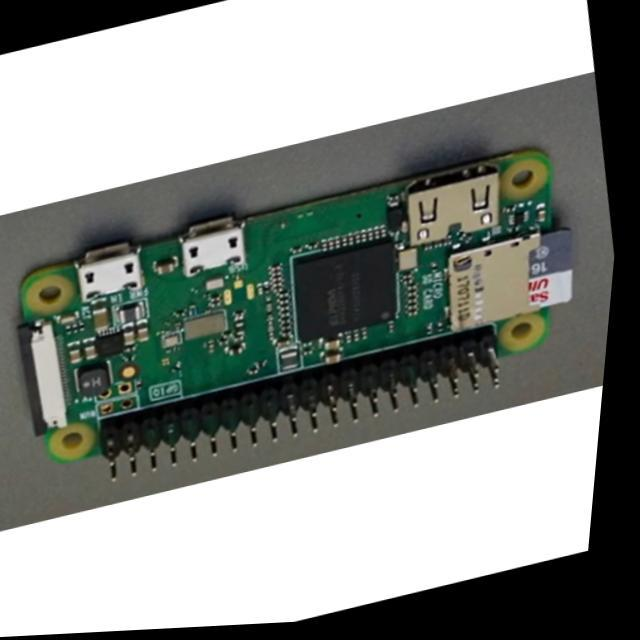Raspberry-Pi-Zero-WH: (19, 150, 572, 480)
